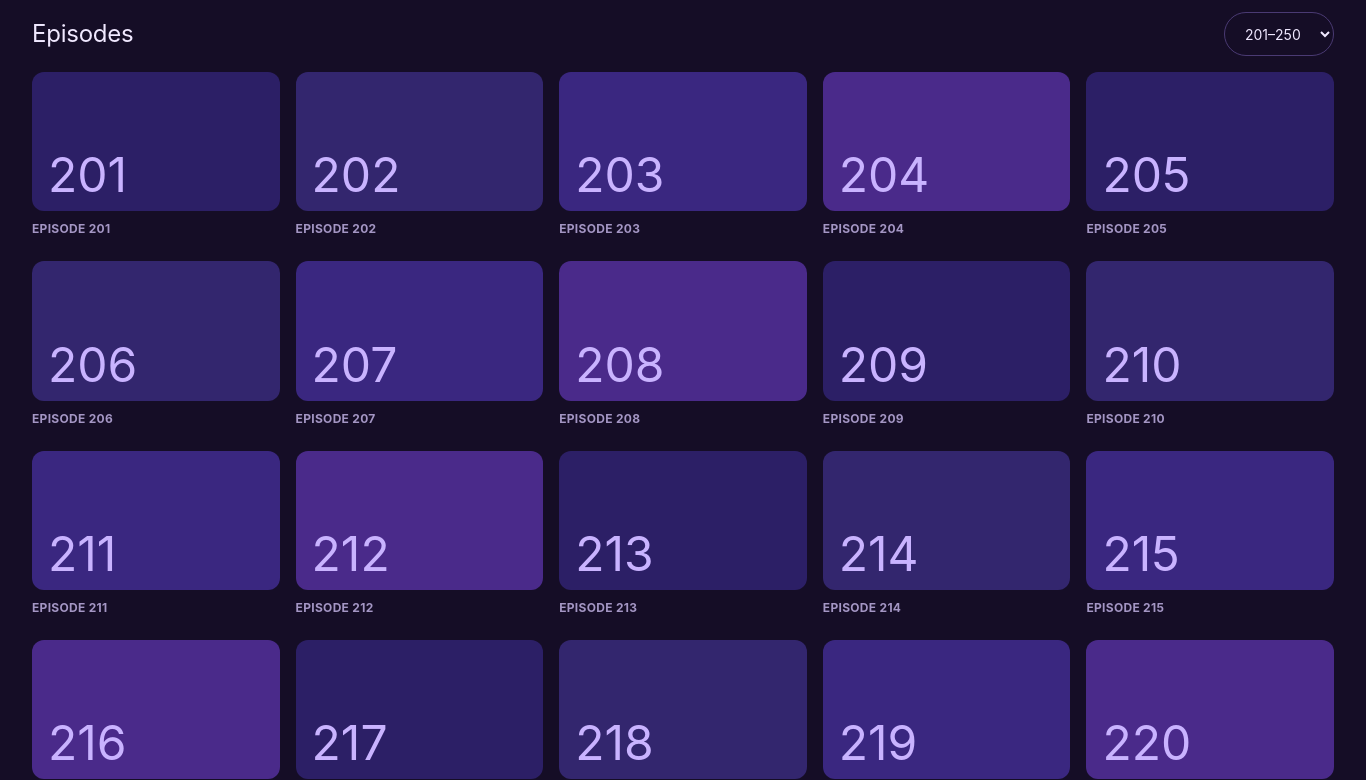
EpisodeList › opens on the current episode's page and switches pages
Select "1–100" in the dropdown named "Episodes shown": {"x": 1279, "y": 34} x1=1224 y1=12 x2=1334 y2=56
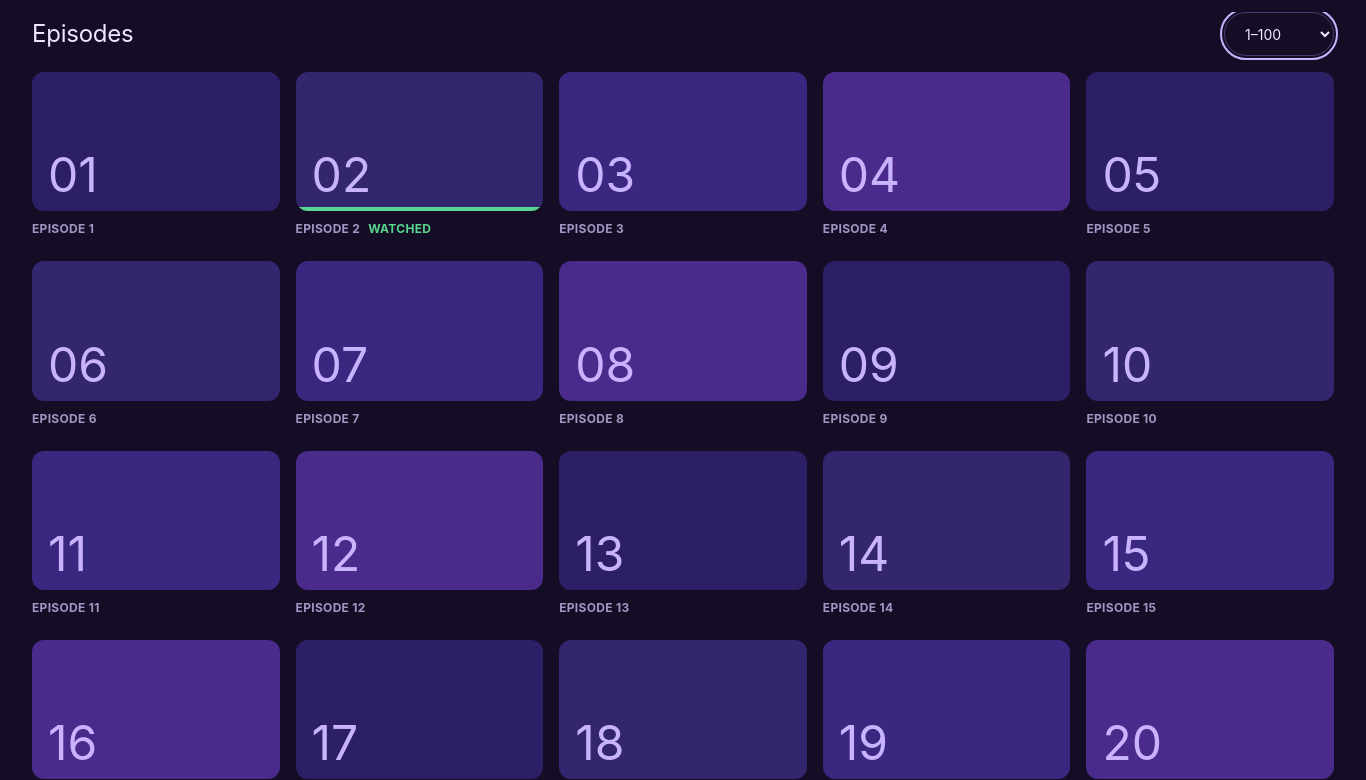
Expected: the link "01 Episode 1" is shown, x1=32 y1=72 x2=280 y2=237
